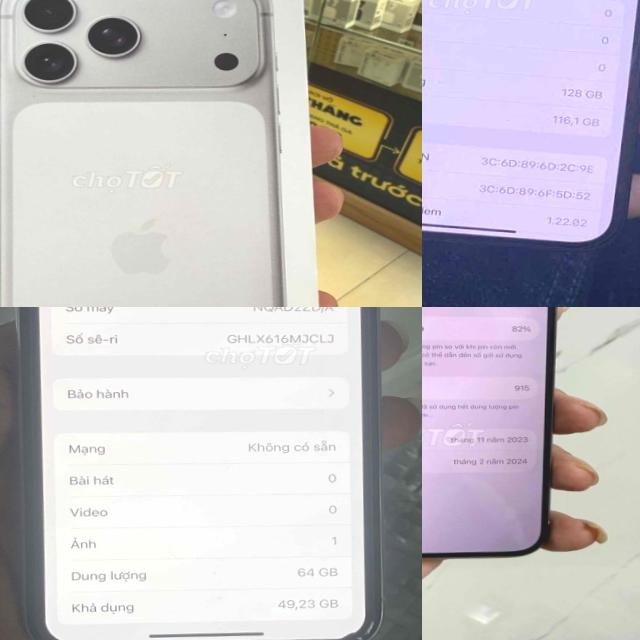gen_14: (422, 0, 640, 262)
gen_15: (422, 307, 581, 565)
gen_17: (0, 0, 317, 307)
gen_x_xs: (0, 307, 395, 640)
